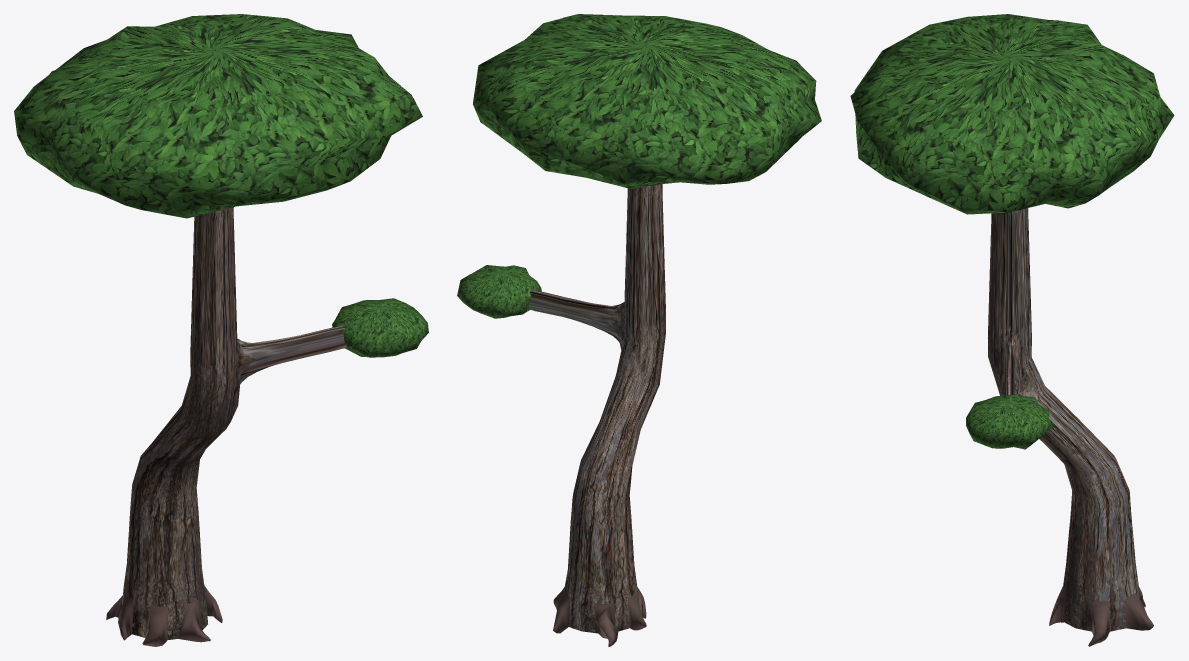
The model's file is Tree2.FBX.
3 views of the same model, side by side, from view 1: azimuth 30°, elevation 25°; view 2: azimuth 150°, elevation 25°; view 3: azimuth 270°, elevation 25° (orthographic). The views are drawn at different scales.
Visible parts, largest first — view 1: Baum; view 2: Baum; view 3: Baum.
Boxes of the visible parts, <box> form: Baum: <box>14,14,428,646</box>; Baum: <box>457,14,821,646</box>; Baum: <box>850,14,1174,646</box>.
Bounding box in the file's own units: 44.35 × 69.85 × 36.13.
